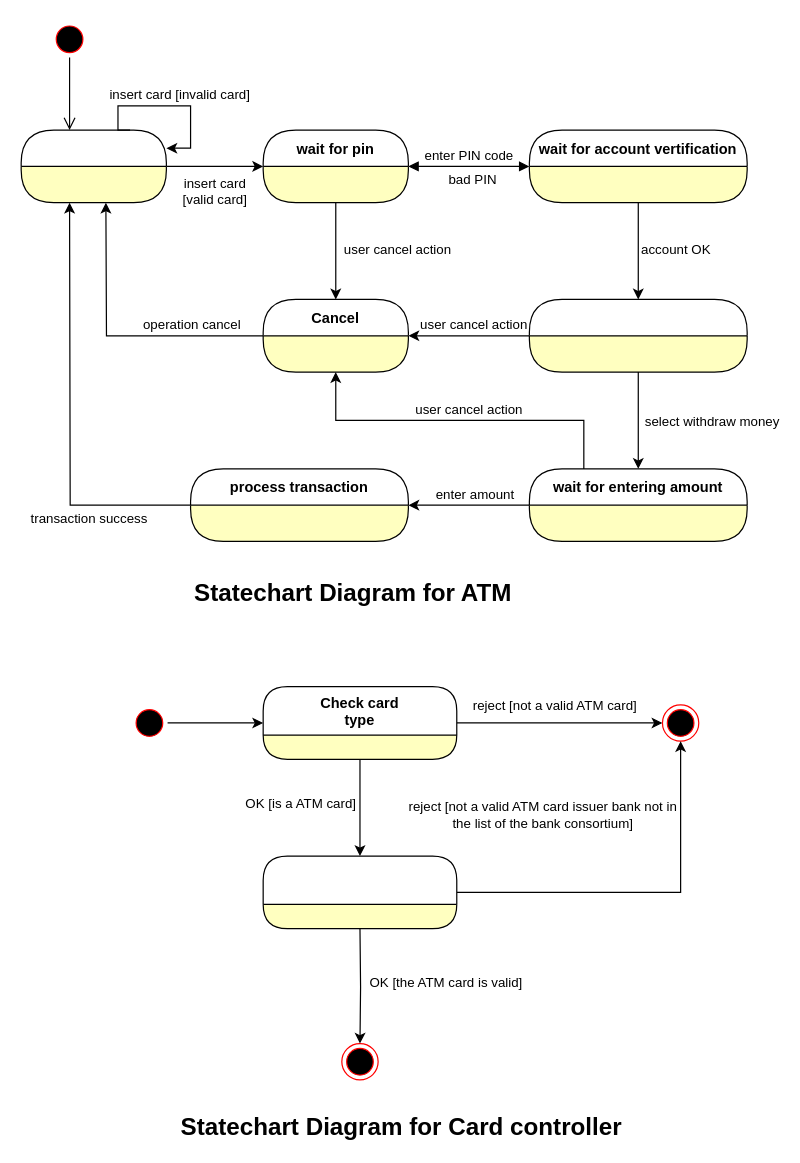
The diagram is 800 pixels wide and 1163 high, and some of its shapes have lost their labels. Here are the shapes that lost their labels. From the top down, the centre of each, then its label:
At (x=93, y=166): "Main screen".
At (x=637, y=335): "wait for selecting services".
At (x=359, y=892): "Check card with bank consortium".
